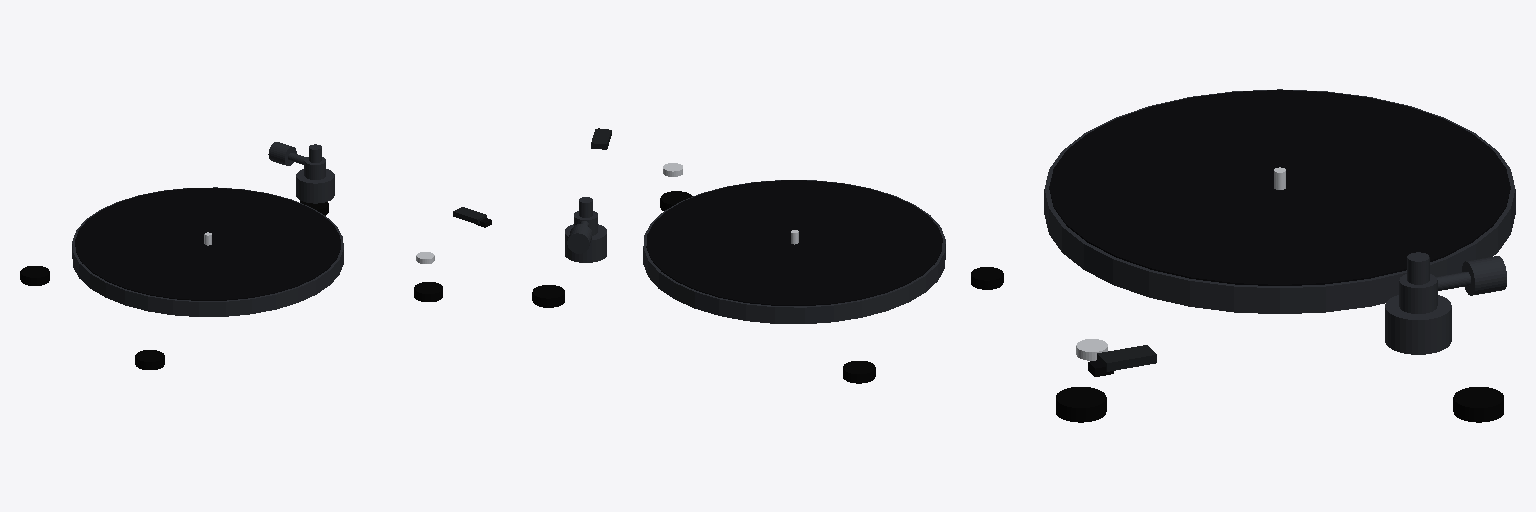
URDF robot description (record_turntable):
<robot name="record_turntable">
  <material name="walnut">
    <color rgba="0.41 0.28 0.19 1" />
    </material>
  <material name="charcoal">
    <color rgba="0.14 0.15 0.16 1" />
    </material>
  <material name="black">
    <color rgba="0.07 0.07 0.08 1" />
    </material>
  <material name="dark_metal">
    <color rgba="0.2 0.21 0.23 1" />
    </material>
  <material name="aluminum">
    <color rgba="0.78 0.79 0.81 1" />
    </material>
  <material name="rubber">
    <color rgba="0.05 0.05 0.05 1" />
    </material>
  <link name="plinth">
    <inertial>
      <origin xyz="0 0 0.02" rpy="0 0 0" />
      <mass value="4.2" />
      <inertia ixx="0.043435" ixy="0" ixz="0" iyy="0.07462" iyz="0" izz="0.116935" />
      </inertial>
    <visual name="lower_body">
      <origin xyz="0 0 0.004" rpy="0 0 0" />
      <geometry>
        <mesh filename="assets/meshes/turntable_lower_body.obj" />
        </geometry>
      <material name="walnut">
        <color rgba="0.41 0.28 0.19 1" />
        </material>
      </visual>
    <visual name="top_deck">
      <origin xyz="0 0 0.008" rpy="0 0 0" />
      <geometry>
        <mesh filename="assets/meshes/turntable_top_deck.obj" />
        </geometry>
      <material name="charcoal">
        <color rgba="0.14 0.15 0.16 1" />
        </material>
      </visual>
    <visual name="foot_0">
      <origin xyz="-0.175 -0.125 0.005" rpy="0 0 0" />
      <geometry>
        <cylinder radius="0.016" length="0.01" />
        </geometry>
      <material name="rubber">
        <color rgba="0.05 0.05 0.05 1" />
        </material>
      </visual>
    <visual name="foot_1">
      <origin xyz="-0.175 0.125 0.005" rpy="0 0 0" />
      <geometry>
        <cylinder radius="0.016" length="0.01" />
        </geometry>
      <material name="rubber">
        <color rgba="0.05 0.05 0.05 1" />
        </material>
      </visual>
    <visual name="foot_2">
      <origin xyz="0.175 -0.125 0.005" rpy="0 0 0" />
      <geometry>
        <cylinder radius="0.016" length="0.01" />
        </geometry>
      <material name="rubber">
        <color rgba="0.05 0.05 0.05 1" />
        </material>
      </visual>
    <visual name="foot_3">
      <origin xyz="0.175 0.125 0.005" rpy="0 0 0" />
      <geometry>
        <cylinder radius="0.016" length="0.01" />
        </geometry>
      <material name="rubber">
        <color rgba="0.05 0.05 0.05 1" />
        </material>
      </visual>
    <visual name="bearing_housing">
      <origin xyz="-0.03 0 0.027" rpy="0 0 0" />
      <geometry>
        <cylinder radius="0.04" length="0.026" />
        </geometry>
      <material name="dark_metal">
        <color rgba="0.2 0.21 0.23 1" />
        </material>
      </visual>
    <visual name="tonearm_base">
      <origin xyz="0.155 0.087 0.052" rpy="0 0 0" />
      <geometry>
        <cylinder radius="0.021" length="0.024" />
        </geometry>
      <material name="dark_metal">
        <color rgba="0.2 0.21 0.23 1" />
        </material>
      </visual>
    <visual name="speed_knob">
      <origin xyz="0.175 -0.118 0.043" rpy="0 0 0" />
      <geometry>
        <cylinder radius="0.01" length="0.006" />
        </geometry>
      <material name="aluminum">
        <color rgba="0.78 0.79 0.81 1" />
        </material>
      </visual>
    </link>
  <link name="platter">
    <inertial>
      <origin xyz="0 0 0.01" rpy="0 0 0" />
      <mass value="1.4" />
      <inertia ixx="0.0077042" ixy="0" ixz="0" iyy="0.0077042" iyz="0" izz="0.0153328" />
      </inertial>
    <visual name="platter_body">
      <origin xyz="0 0 0.01" rpy="0 0 0" />
      <geometry>
        <cylinder radius="0.148" length="0.018" />
        </geometry>
      <material name="dark_metal">
        <color rgba="0.2 0.21 0.23 1" />
        </material>
      </visual>
    <visual name="support_hub">
      <origin xyz="0 0 0.003" rpy="0 0 0" />
      <geometry>
        <cylinder radius="0.028" length="0.006" />
        </geometry>
      <material name="dark_metal">
        <color rgba="0.2 0.21 0.23 1" />
        </material>
      </visual>
    <visual name="record_mat">
      <origin xyz="0 0 0.019" rpy="0 0 0" />
      <geometry>
        <cylinder radius="0.145" length="0.002" />
        </geometry>
      <material name="black">
        <color rgba="0.07 0.07 0.08 1" />
        </material>
      </visual>
    <visual name="spindle">
      <origin xyz="0 0 0.025" rpy="0 0 0" />
      <geometry>
        <cylinder radius="0.004" length="0.014" />
        </geometry>
      <material name="aluminum">
        <color rgba="0.78 0.79 0.81 1" />
        </material>
      </visual>
    </link>
  <link name="tonearm">
    <inertial>
      <origin xyz="0.08 0 0.014" rpy="0 0 0" />
      <mass value="0.35" />
      <inertia ixx="0.000145833" ixy="0" ixz="0" iyy="0.00235958" iyz="0" izz="0.00235958" />
      </inertial>
    <visual name="pivot_collar">
      <origin xyz="0 0 0.009" rpy="0 0 0" />
      <geometry>
        <cylinder radius="0.012" length="0.018" />
        </geometry>
      <material name="dark_metal">
        <color rgba="0.2 0.21 0.23 1" />
        </material>
      </visual>
    <visual name="bearing_cap">
      <origin xyz="0 0 0.026" rpy="0 0 0" />
      <geometry>
        <cylinder radius="0.007" length="0.016" />
        </geometry>
      <material name="dark_metal">
        <color rgba="0.2 0.21 0.23 1" />
        </material>
      </visual>
    <visual name="arm_tube">
      <geometry>
        <mesh filename="assets/meshes/tonearm_tube.obj" />
        </geometry>
      <material name="aluminum">
        <color rgba="0.78 0.79 0.81 1" />
        </material>
      </visual>
    <visual name="headshell">
      <origin xyz="0.203 0.012 0.005" rpy="0 0 0" />
      <geometry>
        <box size="0.034 0.016 0.006" />
        </geometry>
      <material name="charcoal">
        <color rgba="0.14 0.15 0.16 1" />
        </material>
      </visual>
    <visual name="cartridge">
      <origin xyz="0.221 0.013 0.002" rpy="0 0 0" />
      <geometry>
        <box size="0.013 0.011 0.006" />
        </geometry>
      <material name="black">
        <color rgba="0.07 0.07 0.08 1" />
        </material>
      </visual>
    <visual name="counterweight_stub">
      <origin xyz="-0.017 0 0.013" rpy="0 1.5708 0" />
      <geometry>
        <cylinder radius="0.0045" length="0.034" />
        </geometry>
      <material name="dark_metal">
        <color rgba="0.2 0.21 0.23 1" />
        </material>
      </visual>
    <visual name="counterweight">
      <origin xyz="-0.045 0 0.013" rpy="0 1.5708 0" />
      <geometry>
        <cylinder radius="0.011" length="0.022" />
        </geometry>
      <material name="dark_metal">
        <color rgba="0.2 0.21 0.23 1" />
        </material>
      </visual>
    </link>
  <joint name="platter_spin" type="continuous">
    <origin xyz="-0.03 0 0.04" rpy="0 0 0" />
    <parent link="plinth" />
    <child link="platter" />
    <axis xyz="0 0 1" />
    <limit effort="8" velocity="12" />
    </joint>
  <joint name="tonearm_swing" type="revolute">
    <origin xyz="0.155 0.087 0.064" rpy="0 0 -1.18" />
    <parent link="plinth" />
    <child link="tonearm" />
    <axis xyz="0 0 -1" />
    <limit effort="3" velocity="2" lower="0" upper="1.35" />
    </joint>
  </robot>

--- Facts derived from the render (not from the file) ---
The picture shows the robot from 3 angles, left to right: view 1: azimuth 30°, elevation 25°; view 2: azimuth 150°, elevation 25°; view 3: azimuth 270°, elevation 25°; orthographic projection.
Model record_turntable with 3 links and 2 joints (1 revolute, 1 continuous), rooted at plinth, posed every joint at zero.
Links seen in each view (by area): view 1: platter, plinth, tonearm; view 2: platter, plinth, tonearm; view 3: platter, plinth, tonearm.
Link boxes in pixels (bbox=[...]): platter: bbox=[72, 187, 343, 316]; plinth: bbox=[20, 169, 442, 369]; tonearm: bbox=[268, 142, 491, 227]; platter: bbox=[643, 180, 945, 323]; plinth: bbox=[532, 163, 1003, 383]; tonearm: bbox=[567, 128, 611, 253]; platter: bbox=[1044, 89, 1515, 313]; plinth: bbox=[1056, 295, 1503, 422]; tonearm: bbox=[1088, 252, 1506, 376].
Size in the robot's own frame: 0.4498 by 0.296 by 0.098 metres.
0 mesh visuals loaded from 3 distinct referenced files (none loaded); not drawn: 3 (file found but could not be loaded).
